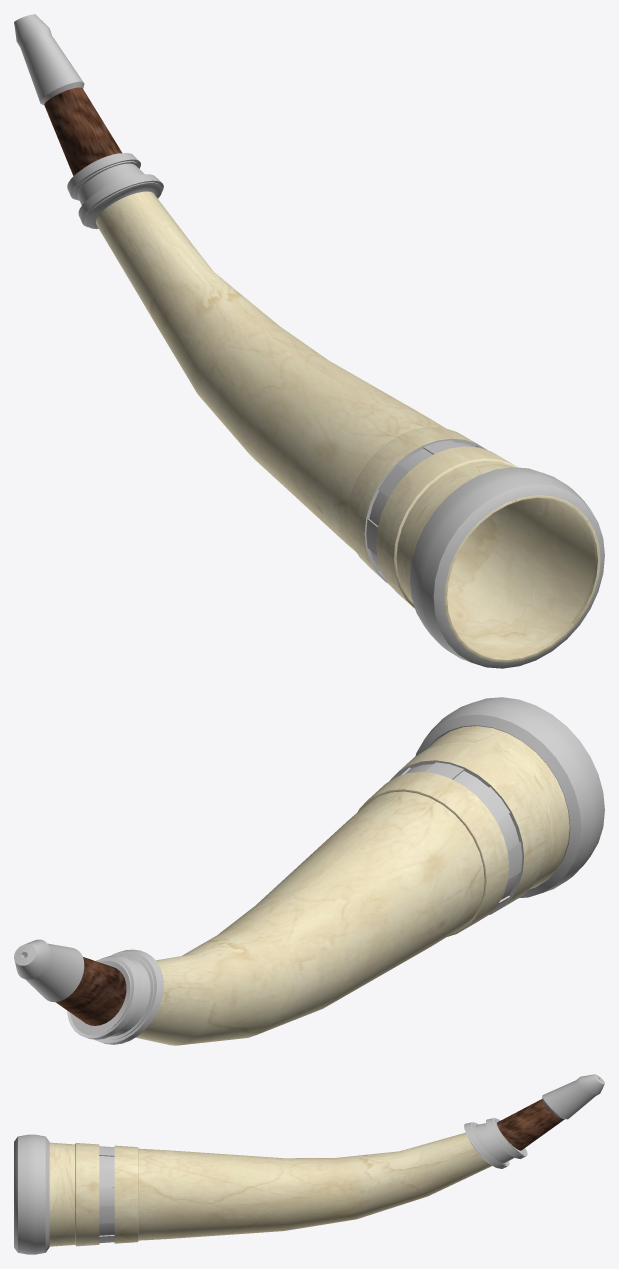
The model's file is Horn.FBX.
3 renders of one model, top to bottom at view 1: azimuth 30°, elevation 25°; view 2: azimuth 150°, elevation 25°; view 3: azimuth 270°, elevation 25°, orthographic. The views are drawn at different scales.
Visible parts, largest first — view 1: Horn; view 2: Horn; view 3: Horn.
Boxes of the visible parts, bbox=[...] form: Horn: bbox=[14, 14, 604, 668]; Horn: bbox=[14, 697, 604, 1045]; Horn: bbox=[14, 1074, 604, 1254].
Bounding box in the file's own units: 81.49 × 130 × 401.
